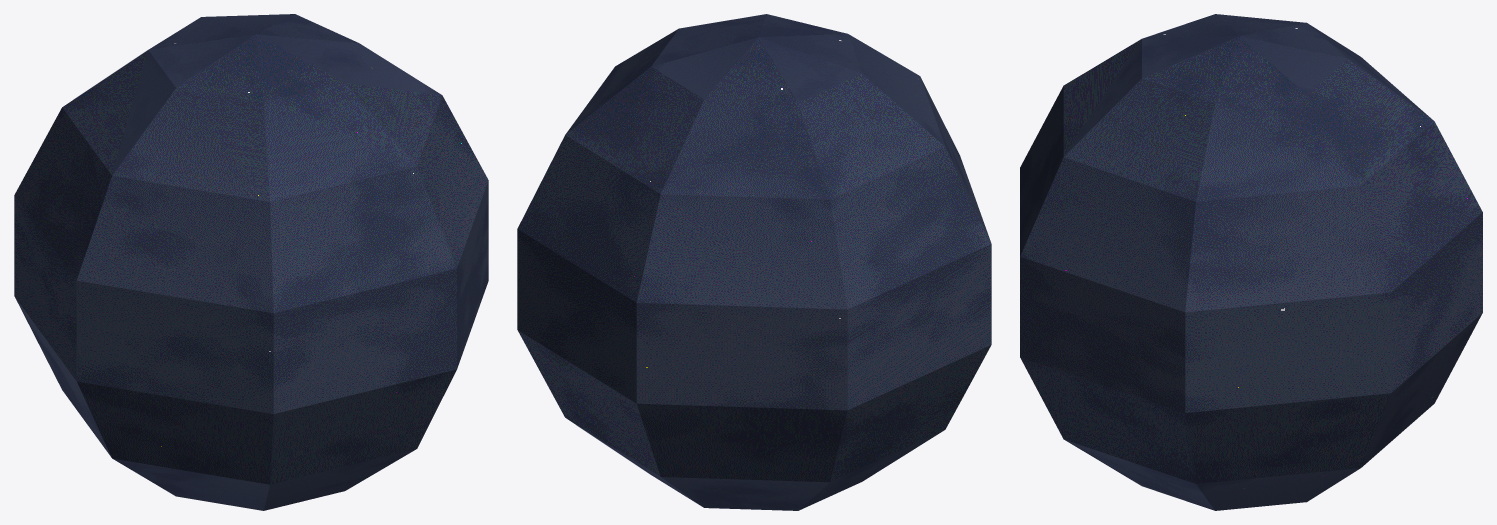
The model's file is skybox.glb.
The picture shows the model from 3 angles, left to right: view 1: azimuth 30°, elevation 25°; view 2: azimuth 150°, elevation 25°; view 3: azimuth 270°, elevation 25°; orthographic projection.
Parts seen in each view (by area): view 1: skybox; view 2: skybox; view 3: skybox.
Boxes of the visible parts, left/top/right/bottom form: skybox: left=14, top=14, right=488, bottom=510; skybox: left=517, top=14, right=991, bottom=510; skybox: left=1020, top=14, right=1482, bottom=510.
Size of the model in its own units: 190 by 200 by 185.
1 material, 1 textured.
